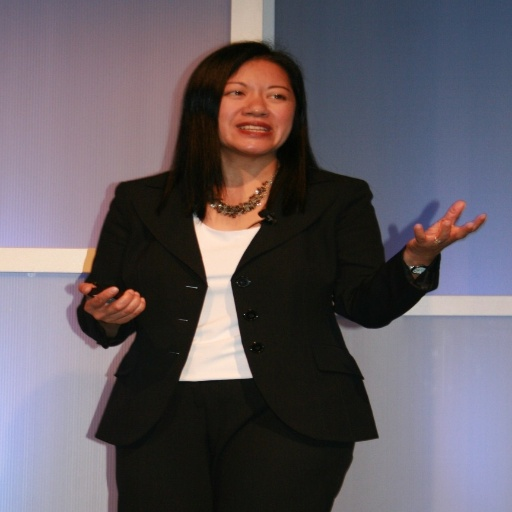hand: (390, 196, 487, 274), (76, 280, 144, 326)
